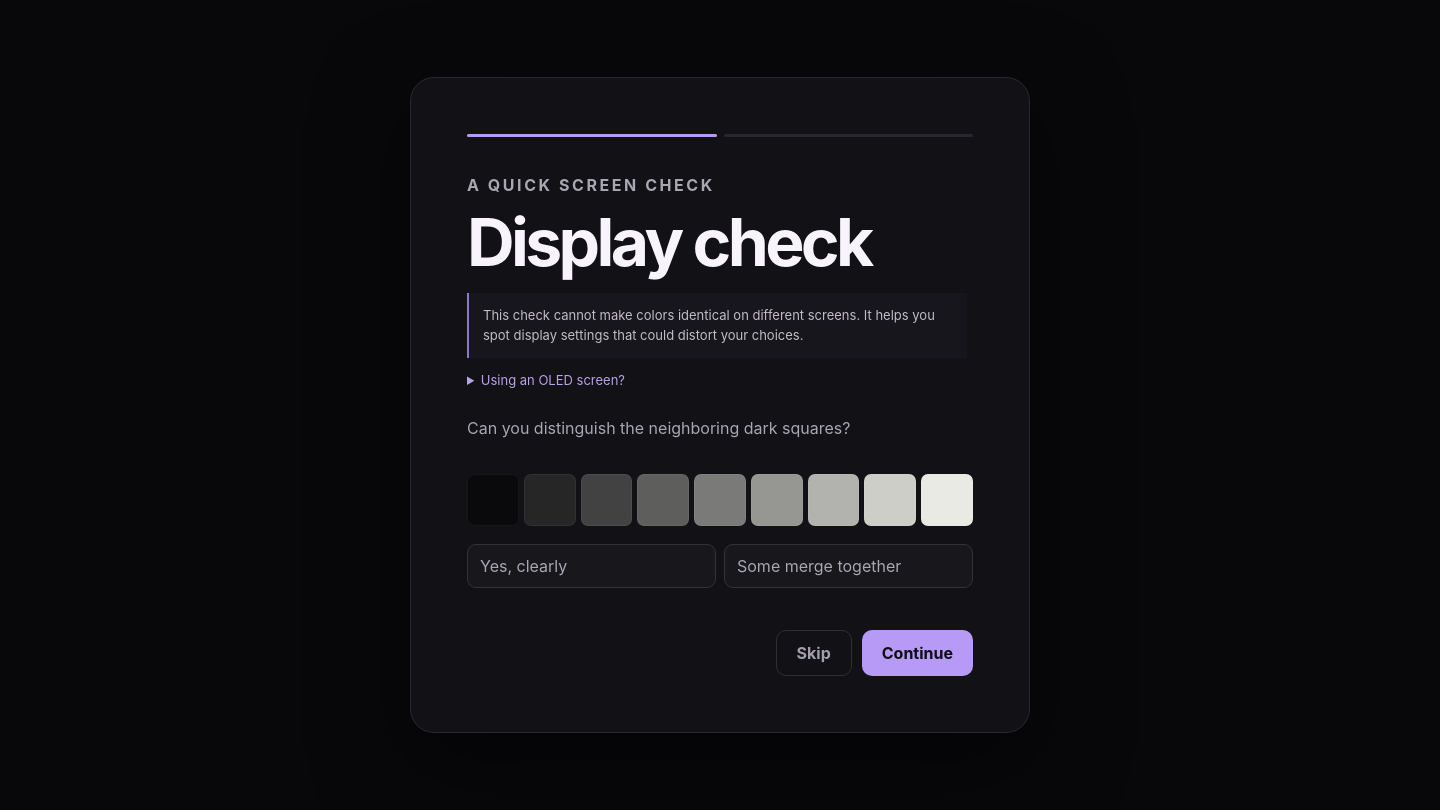
Test case: first-run display check › shows before the first preference and completion prevents it on reload
This screenshot has width=1440, height=810.
Expected: the heading "Display check" is shown, [467,202,871,282]
Expected: the button "choose" is not shown
Click the button "Continue".
click(917, 653)  # box [862,630,973,676]
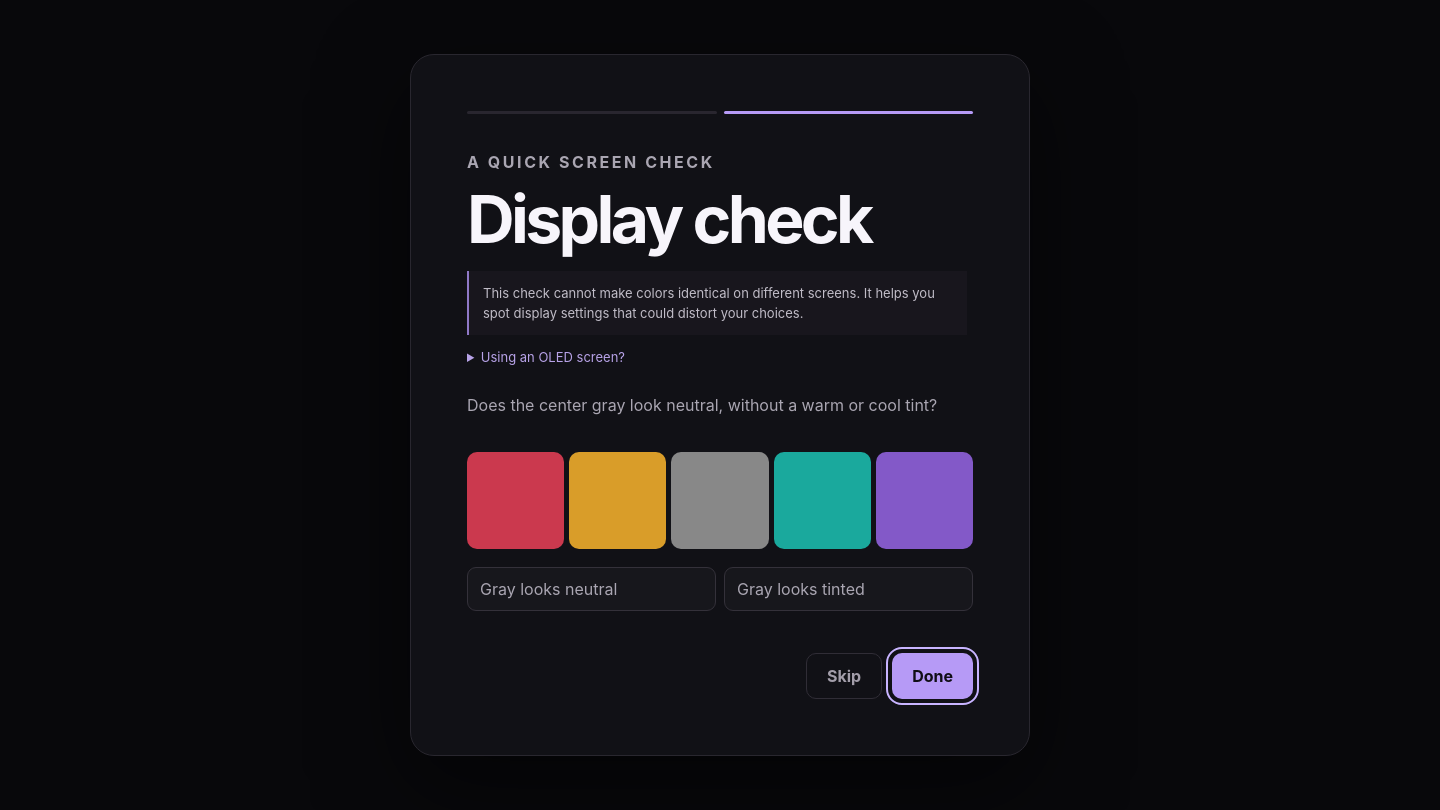
Click the button "Done".
click(933, 676)  # box [892,653,973,699]
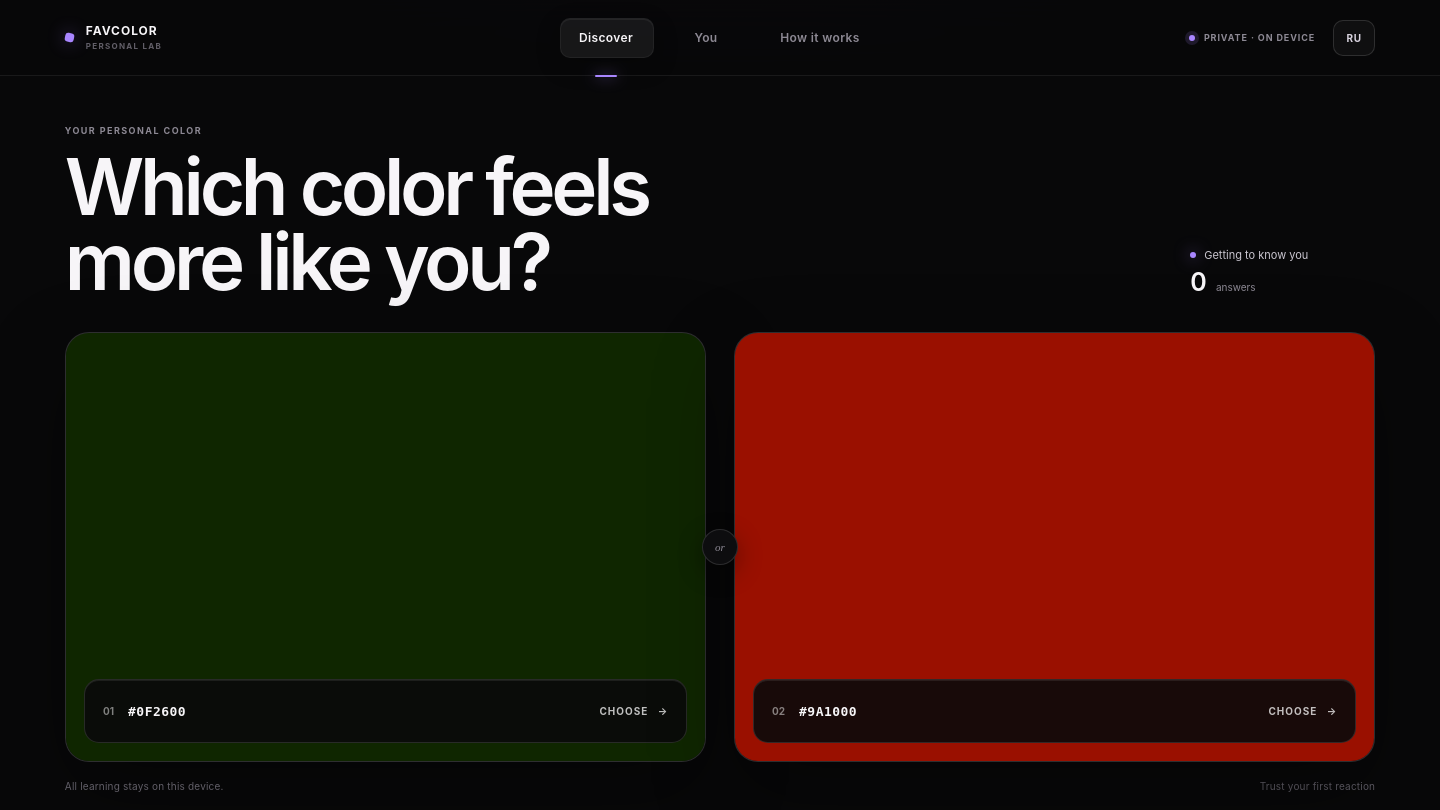
Result: the heading "Display check" is gone
